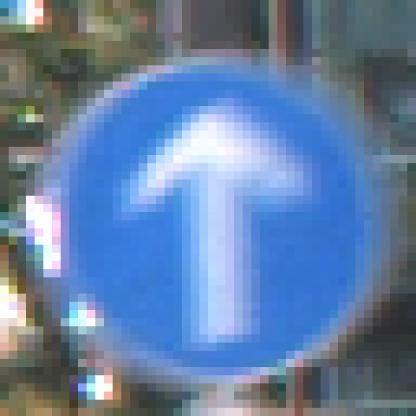AheadOnly: (53, 50, 374, 376)
